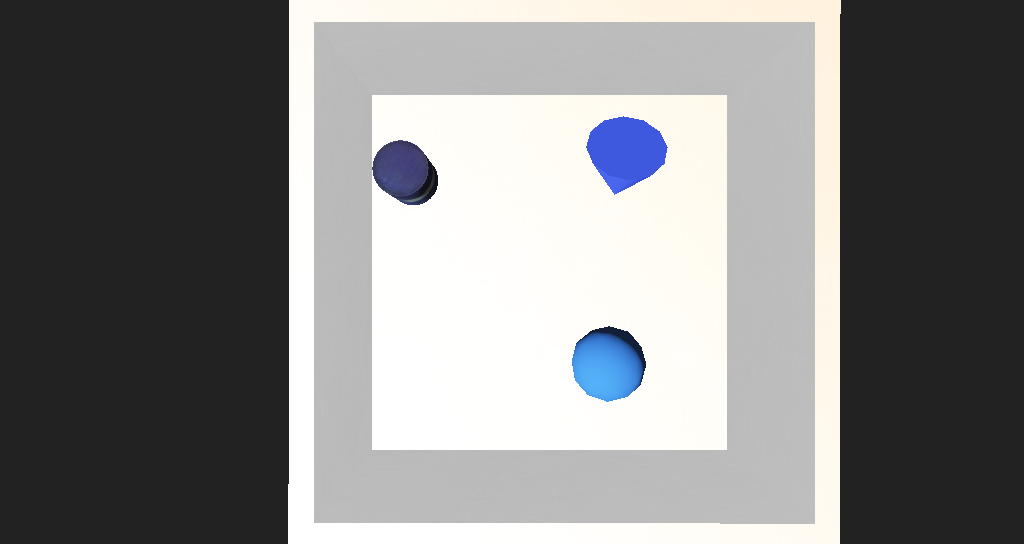cone: (354, 191, 414, 229)
cylinder: (532, 172, 600, 239)
sphere: (519, 303, 586, 346)
